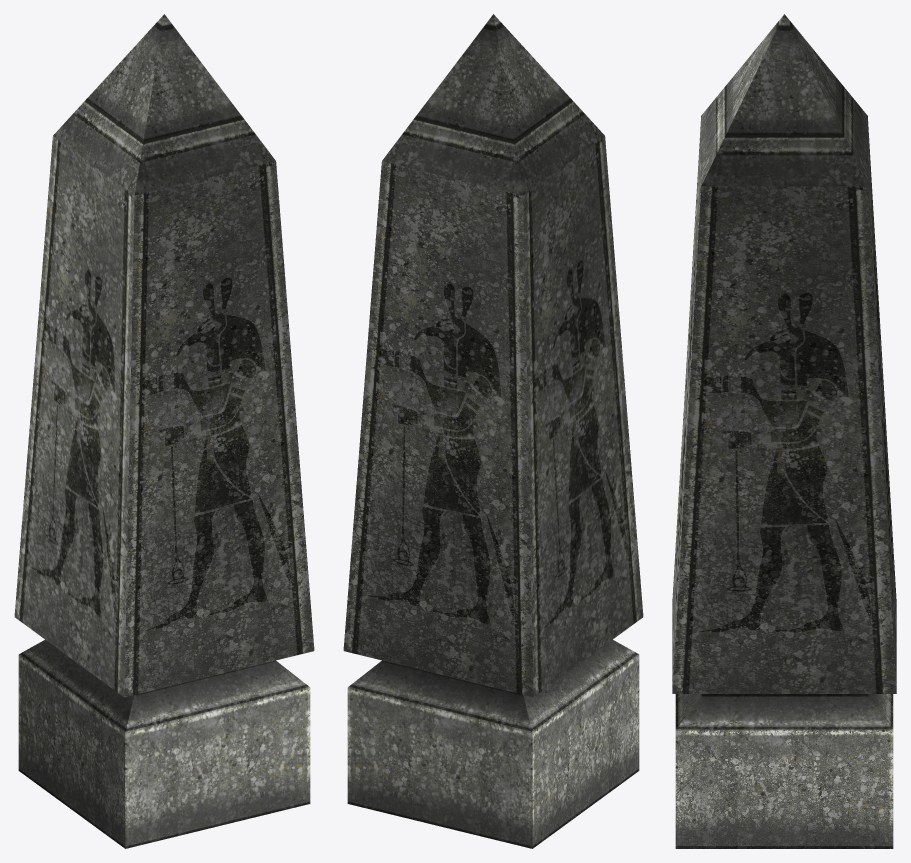
Rendered from dun_stone_deco2_A.FBX.
The picture shows the model from 3 angles, left to right: view 1: azimuth 30°, elevation 25°; view 2: azimuth 150°, elevation 25°; view 3: azimuth 270°, elevation 25°; orthographic projection. The views are drawn at different scales.
Parts seen in each view (by area): view 1: dun_stone_deco_A; view 2: dun_stone_deco_A; view 3: dun_stone_deco_A.
Part boxes in pixels (<box>): dun_stone_deco_A: <box>14,14,314,848</box>; dun_stone_deco_A: <box>343,14,643,848</box>; dun_stone_deco_A: <box>672,14,896,848</box>.
Size of the model in its own units: 309 by 1200 by 309.
